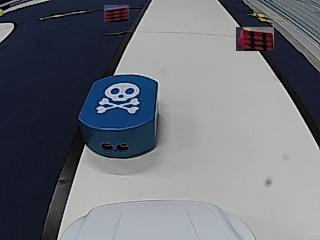danger: (96, 83, 137, 115)
